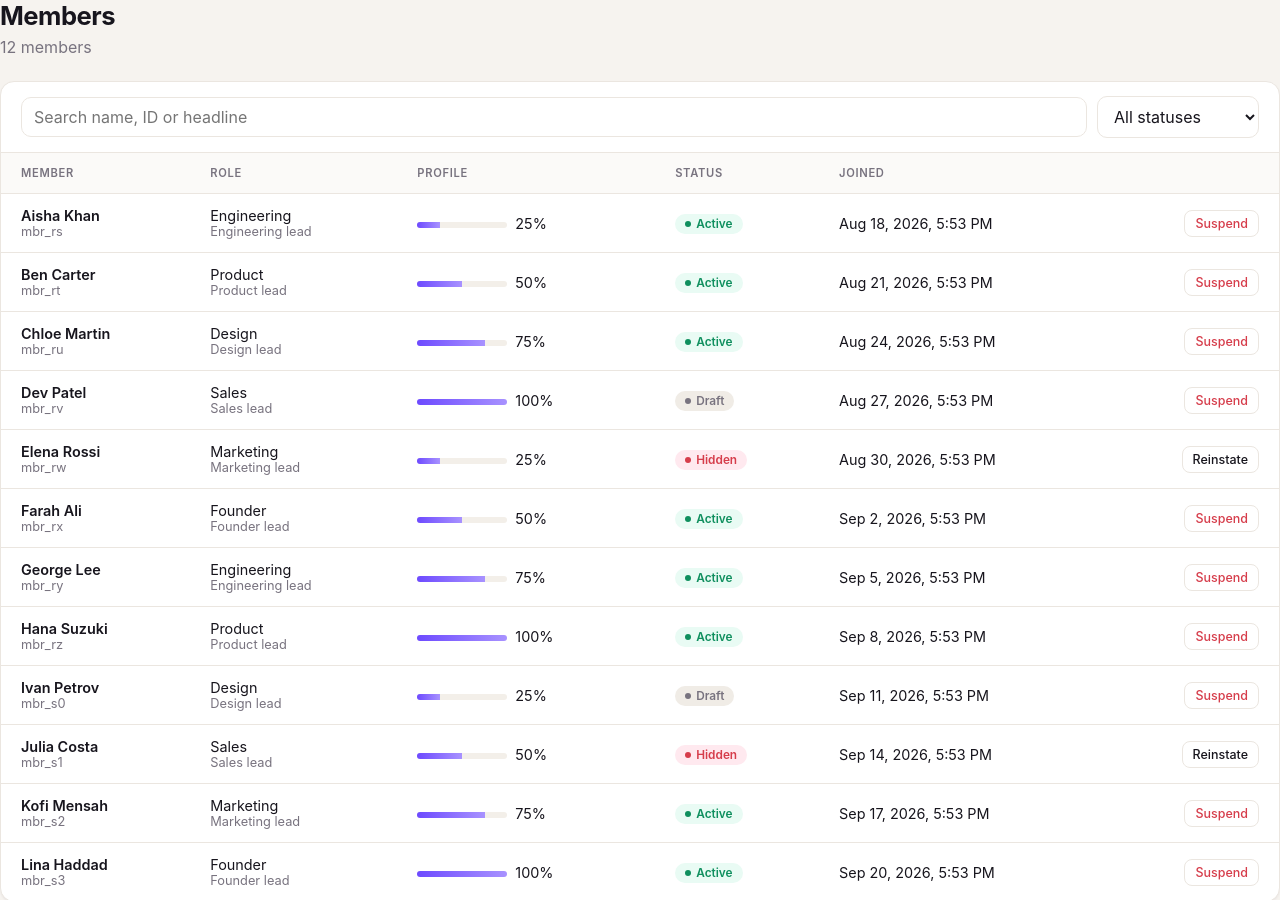
Test: Members › suspends a member only after confirmation
Click the button "Suspend" in the row of "Aisha Khan" at (1222, 223), box [1184, 210, 1259, 236]
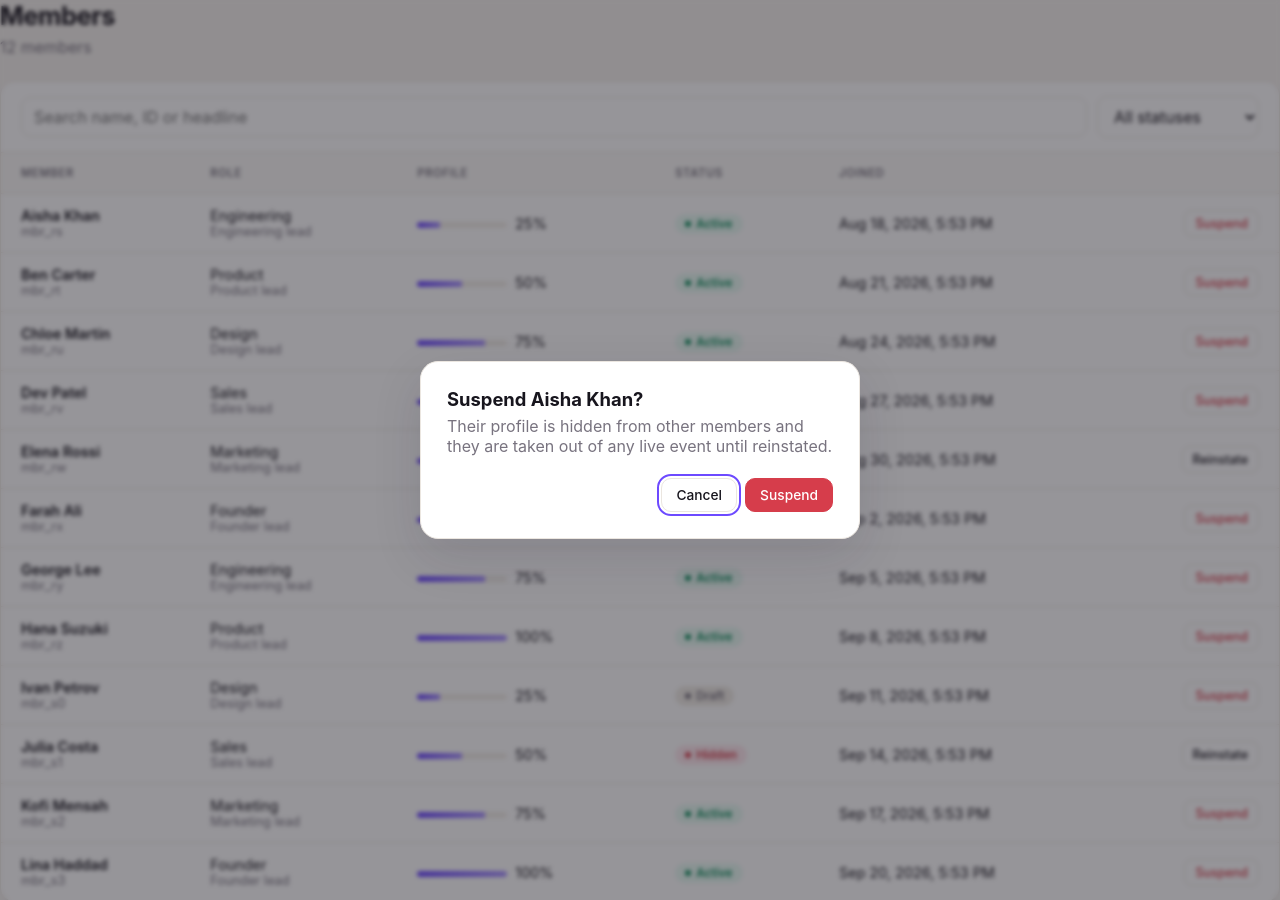
Now the dialog shows "Suspend Aisha Khan?", box [447, 388, 643, 410]
Click the button "Suspend" at (789, 495), box [745, 478, 833, 512]
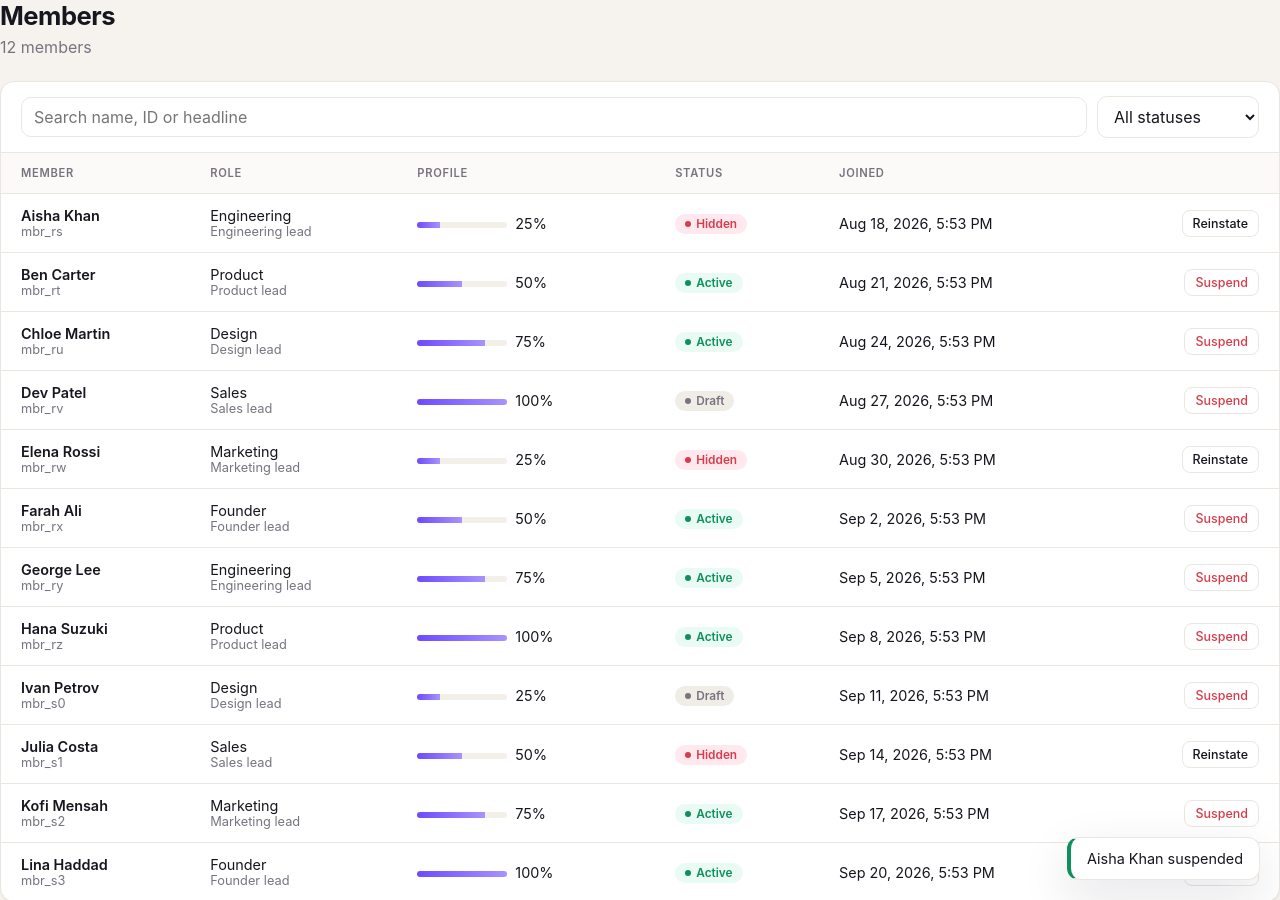
Now the text "Aisha Khan suspended" is shown, box [1067, 837, 1260, 880]
Now the button "Reinstate" in the row of "mbr_rs" is shown, box [1182, 210, 1259, 236]
